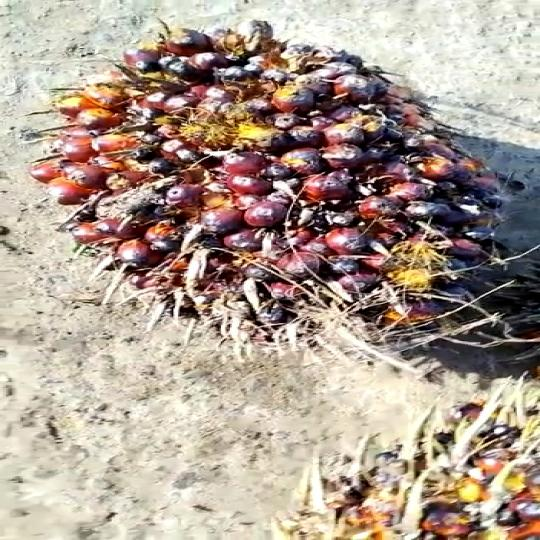masak: (47, 24, 494, 359)
